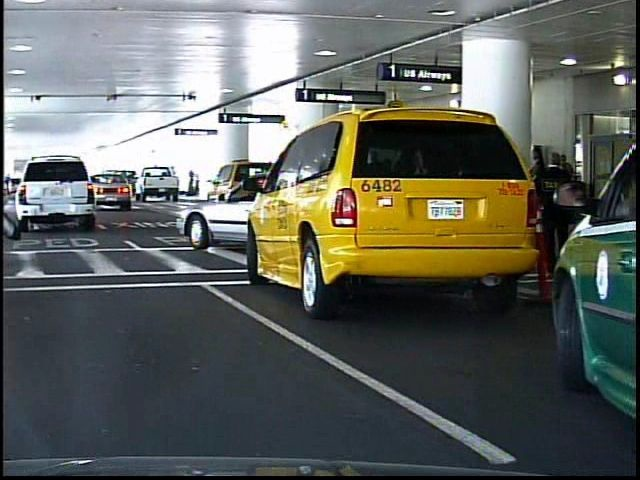person: (533, 148, 578, 275), (517, 145, 548, 255), (192, 168, 199, 197)
